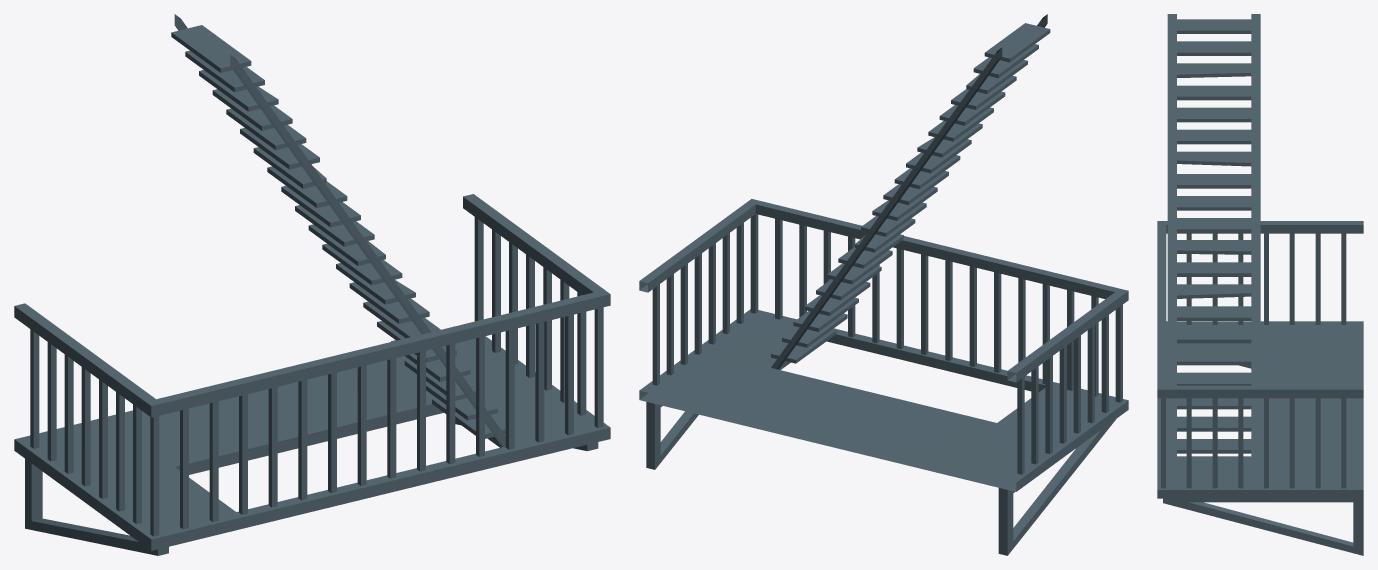
File: stares.1.obj
3 views of the same model, side by side, from view 1: azimuth 30°, elevation 25°; view 2: azimuth 150°, elevation 25°; view 3: azimuth 270°, elevation 25° (orthographic). The views are drawn at different scales.
Parts seen in each view (by area): view 1: SM_Bld_FireEscape_5_SM_Bld_FireEscape_02; view 2: SM_Bld_FireEscape_5_SM_Bld_FireEscape_02; view 3: SM_Bld_FireEscape_5_SM_Bld_FireEscape_02.
Part boxes in pixels (x1,y1,x2,y2): SM_Bld_FireEscape_5_SM_Bld_FireEscape_02: (14,14,610,555); SM_Bld_FireEscape_5_SM_Bld_FireEscape_02: (639,14,1128,555); SM_Bld_FireEscape_5_SM_Bld_FireEscape_02: (1157,14,1363,555).
Size of the model in its own units: 3.18 by 3.61 by 1.64.
